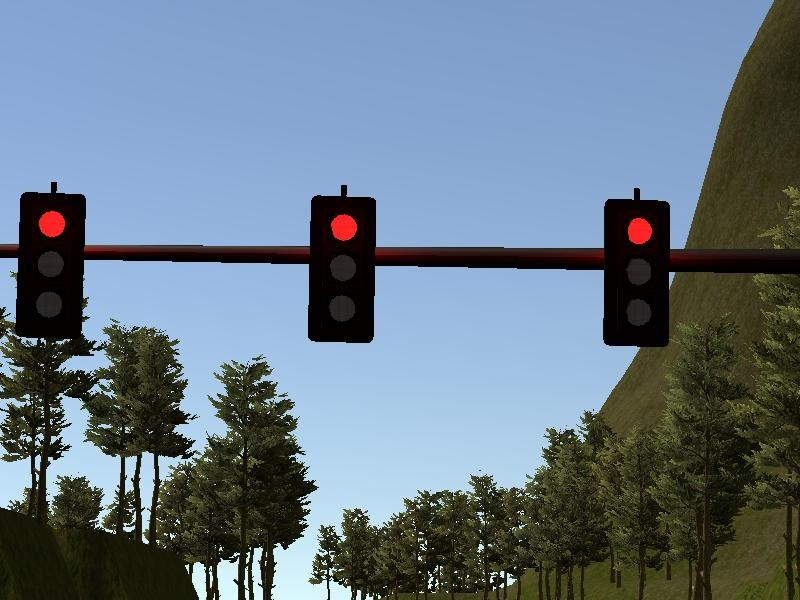red: (13, 190, 88, 338), (306, 194, 377, 343), (601, 196, 670, 349)
